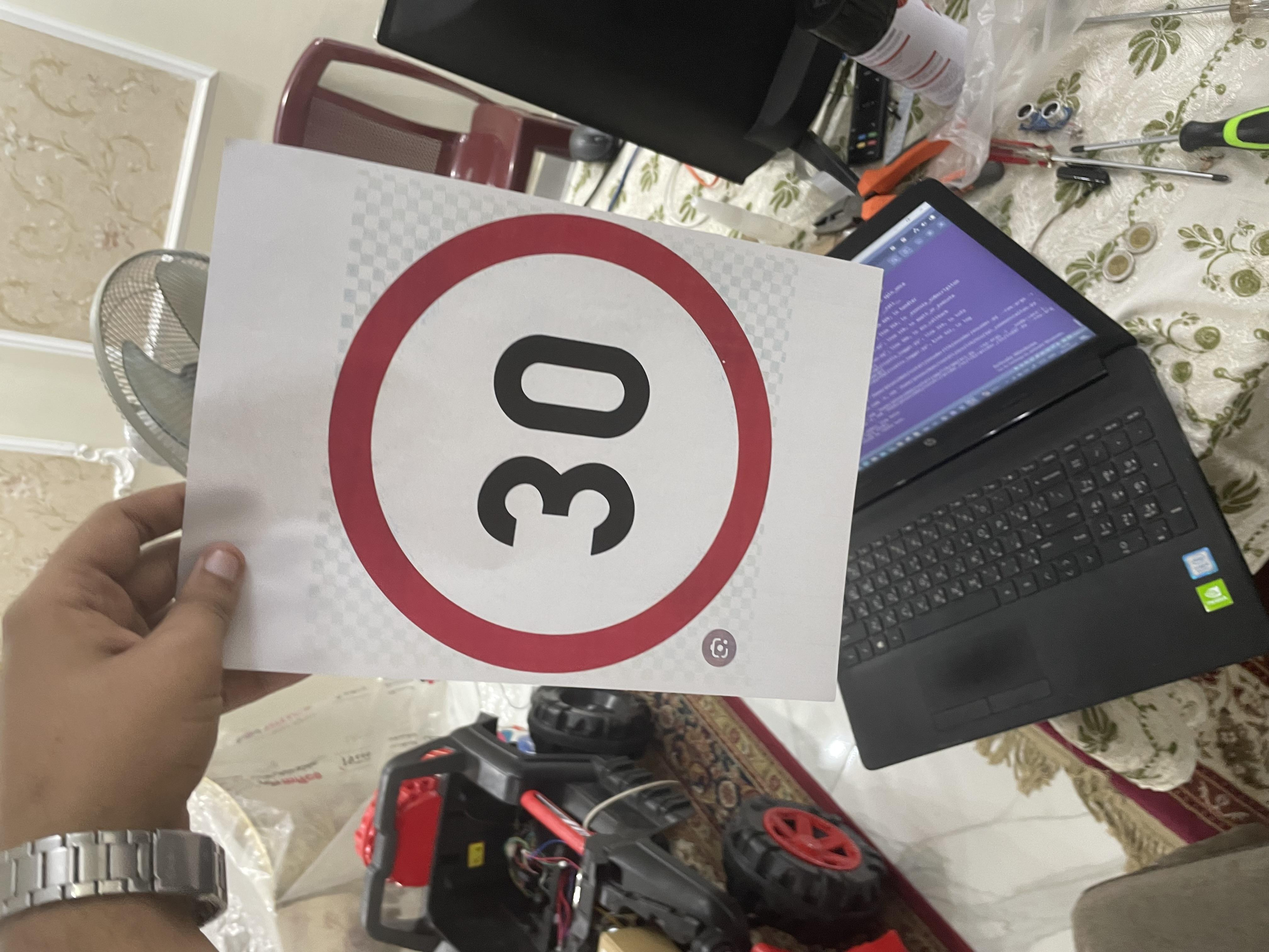30-speed: (353, 234, 996, 583)
